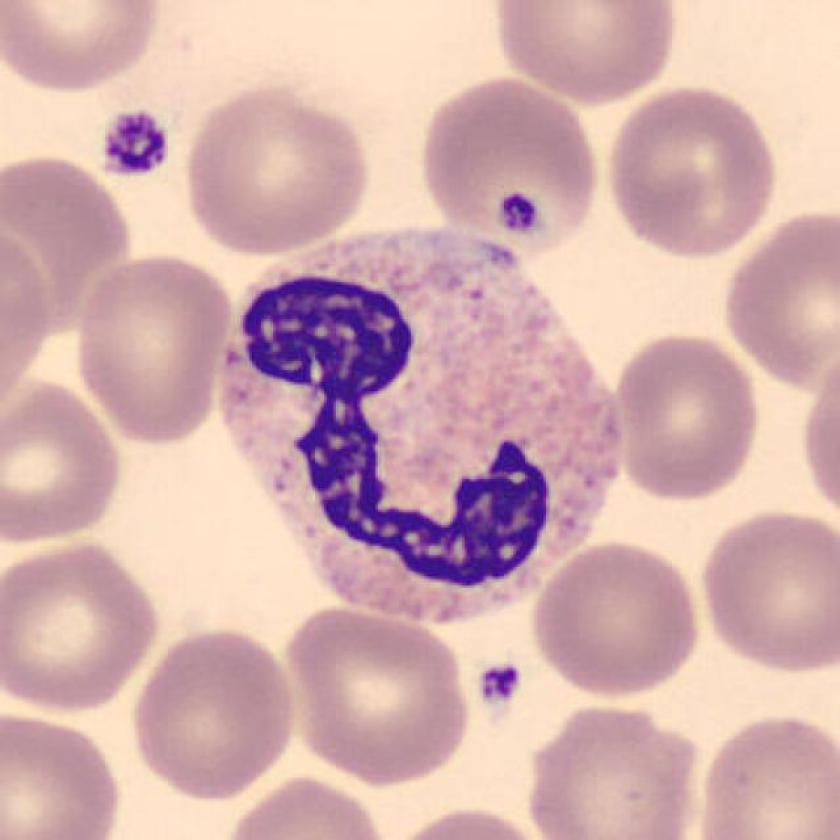neutrophil: (219, 230, 618, 625)
